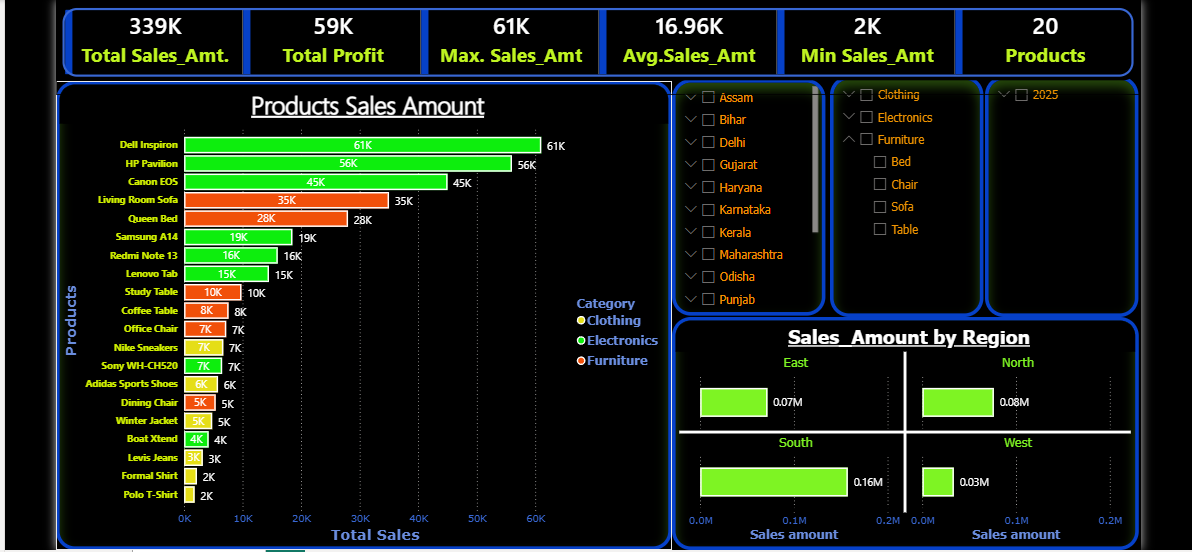

The page's visual inventory and layout, read from the dashboard file:
{"tool":"powerbi","page":{"name":"Stacked bar chart","canvas":[1500,760],"ordinal":0},"visuals":[{"type":"barChart","title":"Products Sales Amount","fields":{"Series":["Table1.Category"],"Category":["Table1.Product_Name"],"Y":["Sum(Table1.Sales_Amount)"]},"box":[0,111.9,851.2,648.1],"z":0},{"type":"barChart","title":" Sales_Amount by Region","fields":{"Y":["Sum(Table1.Sales_Amount)"],"Rows":["Table1.Region"]},"box":[851.2,438,645.3,322],"z":1000},{"type":"slicer","fields":{"Values":["Table1.State","Table1.Region","Table1.City"]},"box":[851.6,109.5,211.8,327.1],"z":2000},{"type":"slicer","fields":{"Values":["Table1.Category","Table1.Sub_Category"]},"box":[1069.2,105.2,211.8,332.9],"z":3000},{"type":"slicer","fields":{"Values":["Table1.Order_Date.Variation.Date Hierarchy.Year","Table1.Order_Date.Variation.Date Hierarchy.Quarter","Table1.Order_Date.Variation.Date Hierarchy.Month","Table1.Order_Date.Variation.Date Hierarchy.Day"]},"box":[1283.9,105.2,211.8,332.9],"z":4000},{"type":"cardVisual","fields":{"Data":["Sum(Table1.Sales_Amount)","Sum(Table1.Profit)","Max(Table1.Sales_Amount)","Avg(Table1.Sales_Amount)","Min(Table1.Sales_Amount)","CountNonNull(Table1.Quantity)"]},"box":[0,0,1500,130.7],"z":5000}]}

Visuals, with their boxes on the page's 1500x760 design canvas (x1, y1, x2, y2). These are canvas units, not pixel positions in the 1192x552 screenshot, which may show the page scaled, cropped or inside an application window:
"Products Sales Amount" barChart: [0,112,851,760]
" Sales_Amount by Region" barChart: [851,438,1496,760]
slicer - Table1.State x Table1.Region: [852,110,1063,437]
slicer - Table1.Category x Table1.Sub_Category: [1069,105,1281,438]
slicer - Table1.Order_Date.Variation.Date Hierarchy.Year x Table1.Order_Date.Variation.Date Hierarchy.Quarter: [1284,105,1496,438]
cardVisual - Sum(Table1.Sales_Amount) x Sum(Table1.Profit): [0,0,1500,131]
